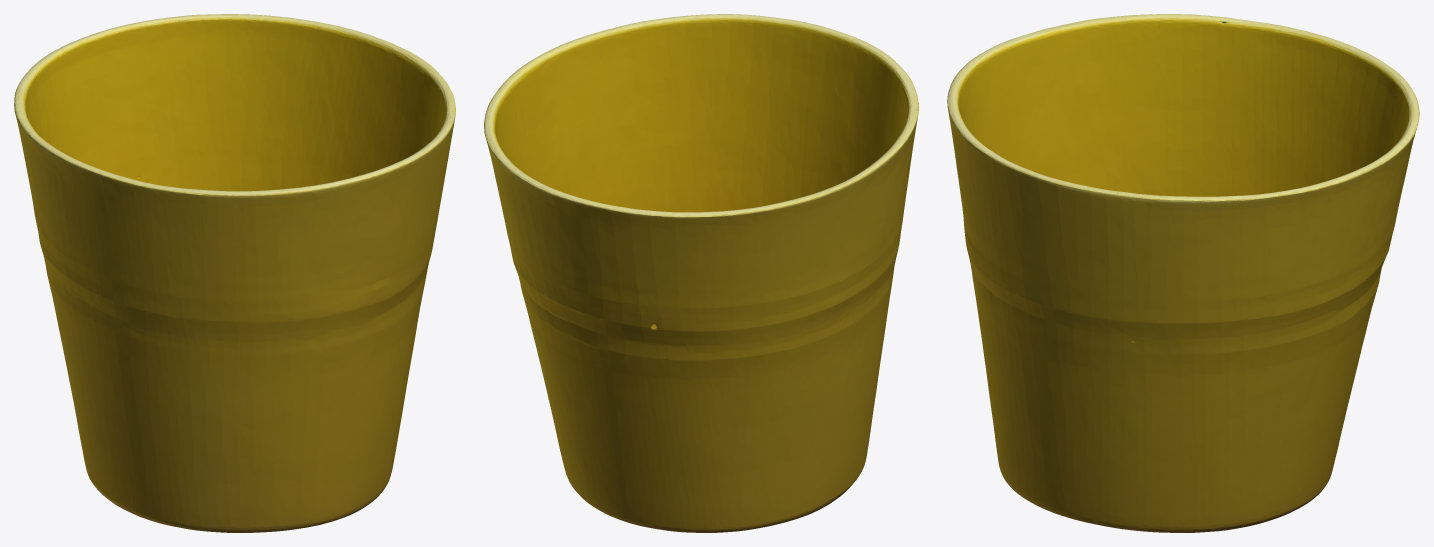
Rendered from yellow_cup.glb.
The picture shows the model from 3 angles, left to right: view 1: azimuth 30°, elevation 25°; view 2: azimuth 150°, elevation 25°; view 3: azimuth 270°, elevation 25°; orthographic projection. The views are drawn at different scales.
Parts seen in each view (by area): view 1: world; view 2: world; view 3: world.
Boxes of the visible parts, left/top/right/bottom form: world: left=14, top=14, right=455, bottom=532; world: left=484, top=14, right=918, bottom=532; world: left=947, top=14, right=1419, bottom=532.
Size of the model in its own units: 0.9324 by 0.8893 by 0.9982.
Materials: 1 (1 with a texture image).
